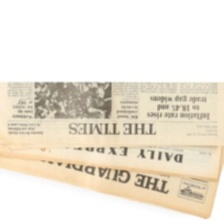news_paper: (0, 145, 224, 221), (0, 80, 224, 148), (0, 140, 222, 182)
